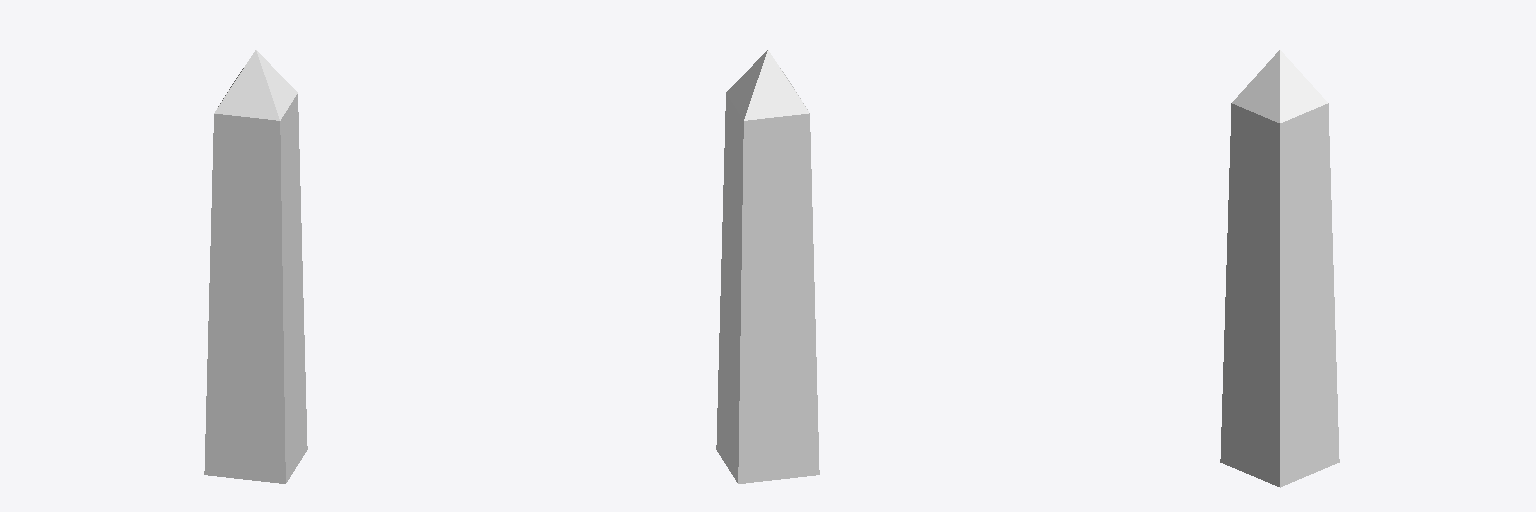
The model's file is obelisk.obj.
The picture shows the model from 3 angles: view 1: azimuth 30°, elevation 25°; view 2: azimuth 150°, elevation 25°; view 3: azimuth 270°, elevation 25°; orthographic projection.
Parts seen in each view (by area): view 1: Obelisk; view 2: Obelisk; view 3: Obelisk.
Boxes of the visible parts, <box> form: Obelisk: <box>204,50,307,483</box>; Obelisk: <box>716,50,819,483</box>; Obelisk: <box>1220,50,1339,487</box>.
Size of the model in its own units: 37.23 by 142 by 37.23.